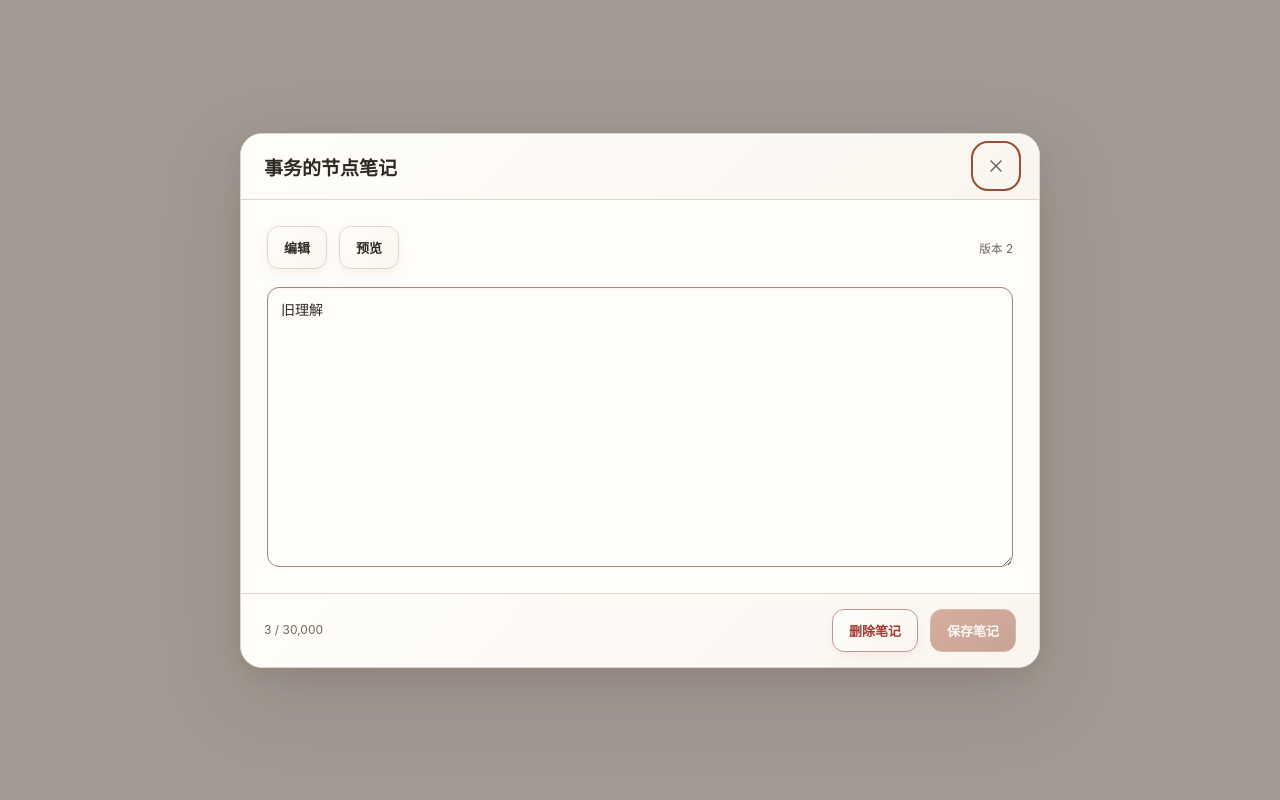
Test case: NodeNoteDialog › preserves the typed draft when a version conflict reloads the remote note
The width and height of the screenshot is (1280, 800).
Replace the text in the text box named "Markdown 笔记" with "我尚未保存的理解" at (640, 426), box [267,286,1013,566]
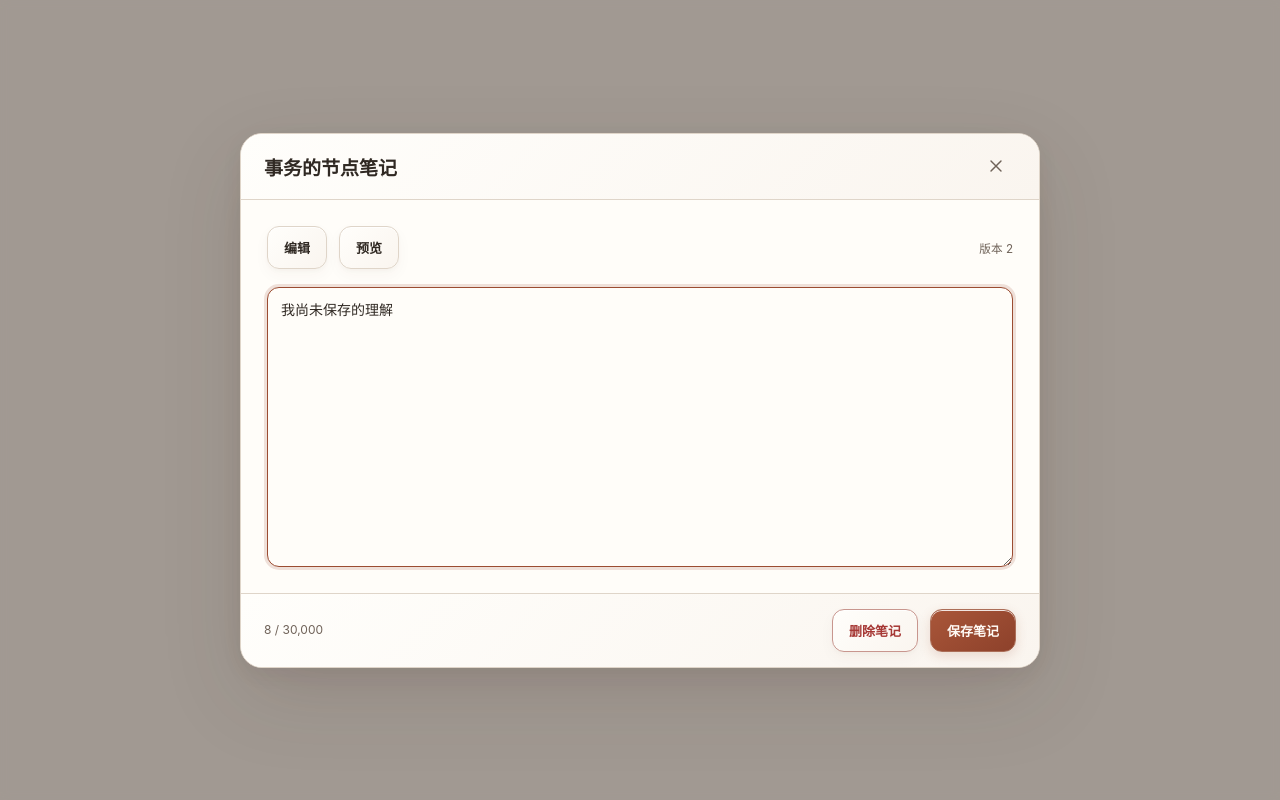
Click the button "保存笔记" at (973, 630), box [930,608,1016,652]
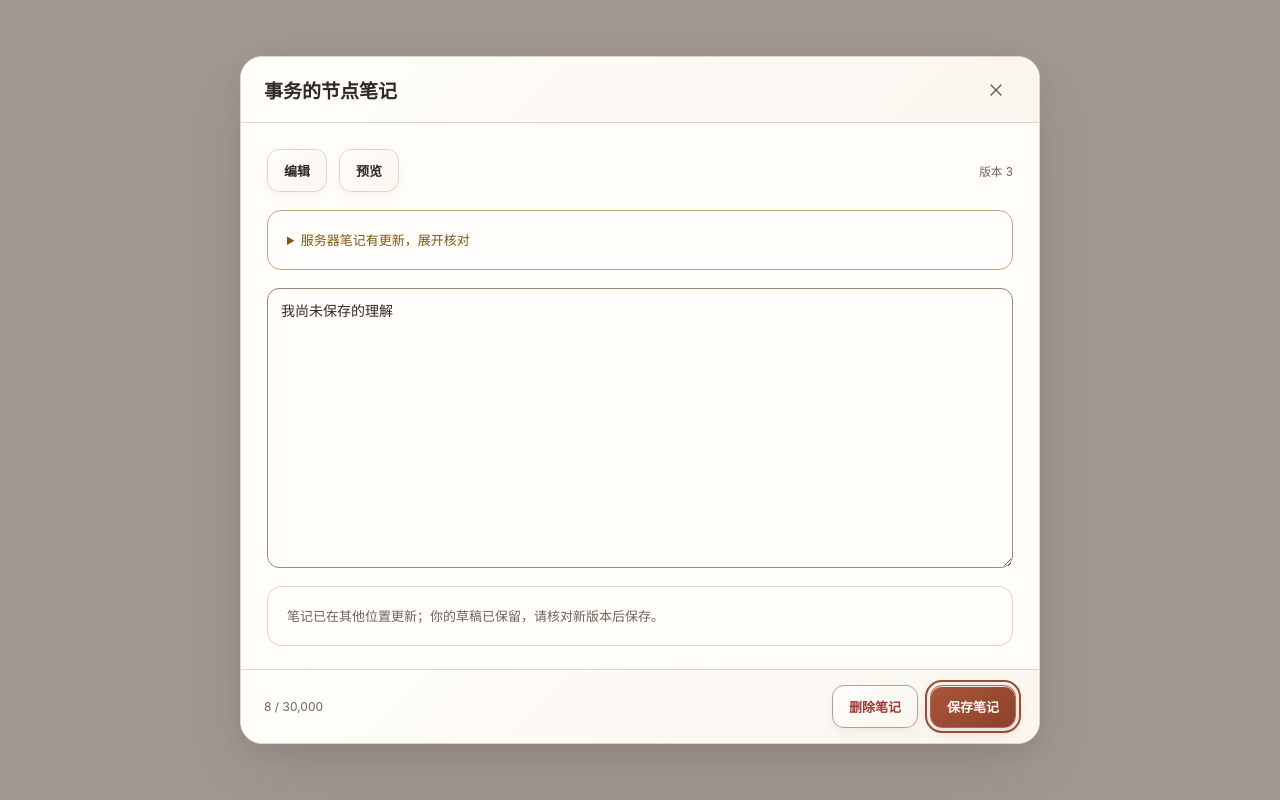
Expected: the text "版本 3" is shown, [979,162,1013,179]
